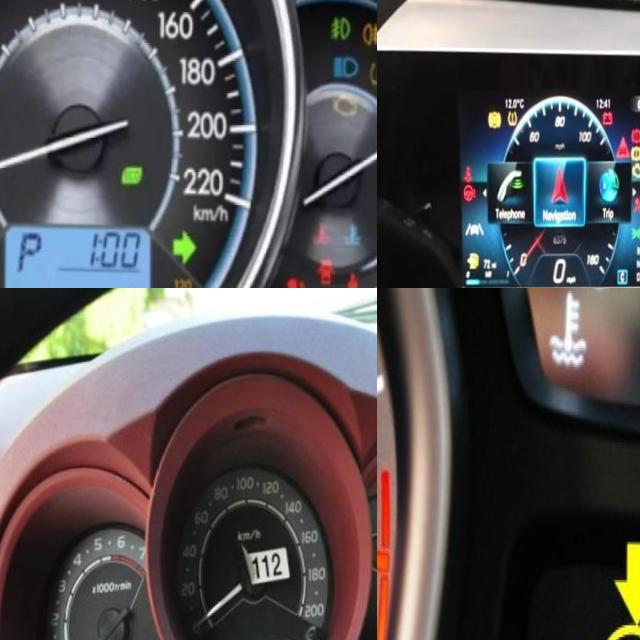High Engine Coolant Temperature: (312, 220, 332, 243)
Seat Belt: (345, 270, 360, 288)
